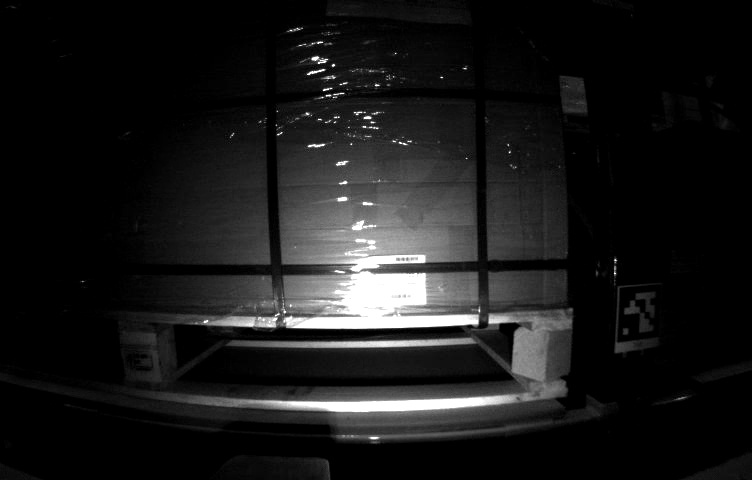True Barcode: (369, 255, 425, 304)
